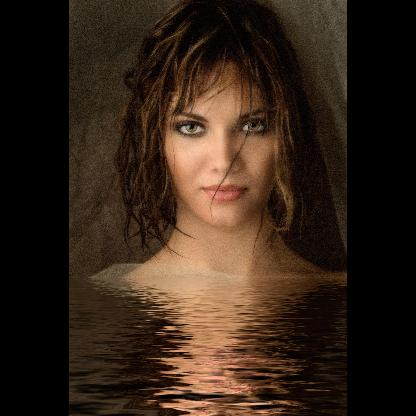Female: (162, 61, 282, 226)
